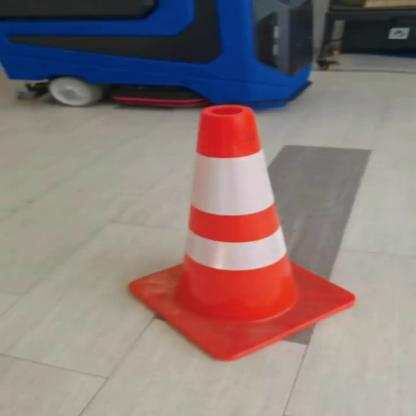cone: (124, 104, 365, 363)
